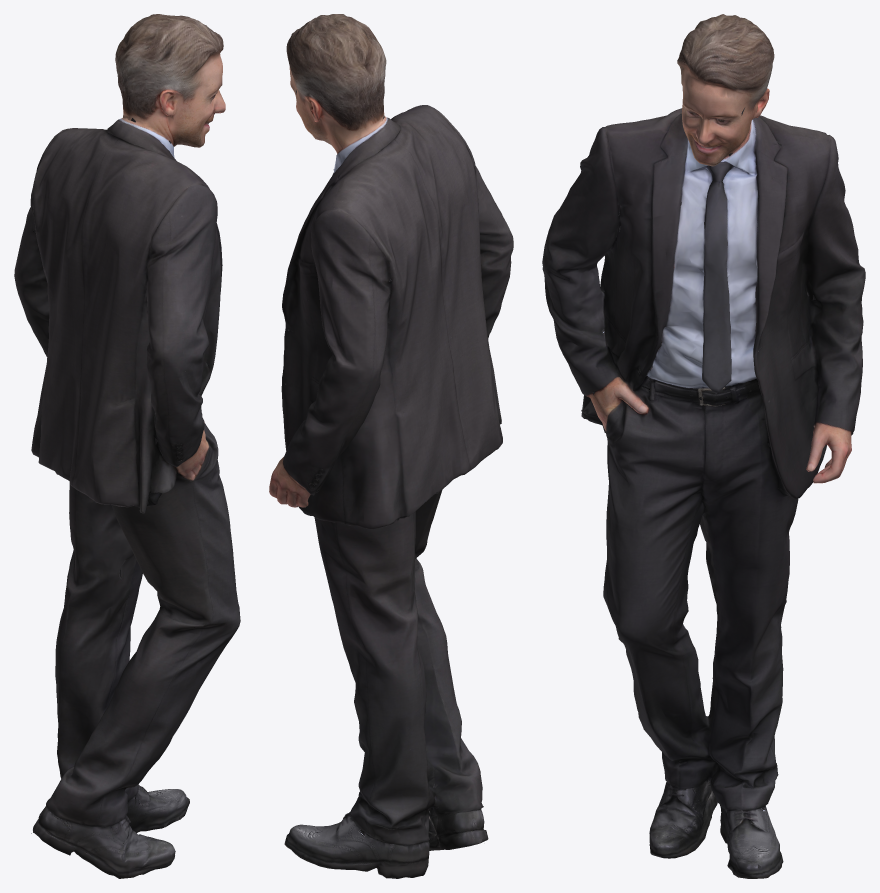
Rendered from dennis.fbx.
3 renders of one model, left to right at view 1: azimuth 30°, elevation 25°; view 2: azimuth 150°, elevation 25°; view 3: azimuth 270°, elevation 25°, orthographic. The views are drawn at different scales.
Visible parts, largest first — view 1: dennis; view 2: dennis; view 3: dennis.
Part boxes in pixels (x1,y1,x2,y2): dennis: (14, 14, 240, 878); dennis: (269, 14, 513, 878); dennis: (542, 14, 865, 878).
Bounding box in the file's own units: 1.23 × 5 × 1.72.
Materials: 1 (1 with a texture image).
